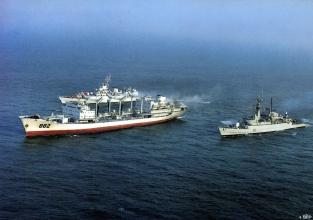warship: (8, 80, 189, 140), (215, 95, 309, 140)
